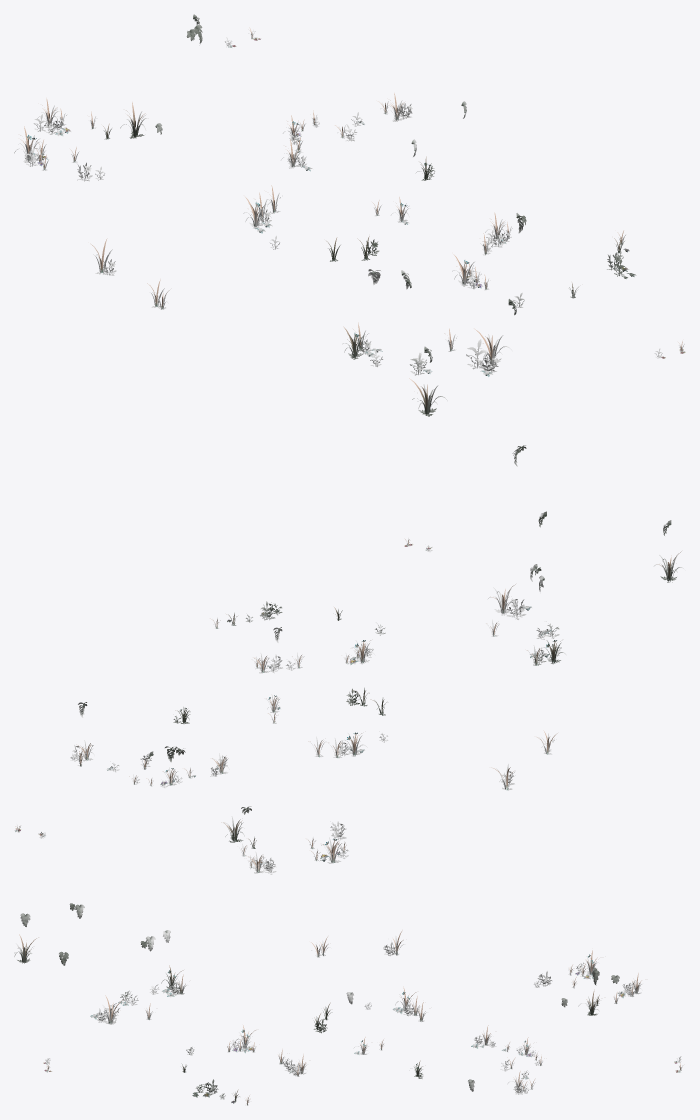
File: MSH_ENV_SquareArena_Plants.FBX
The picture shows the model from 3 angles, top to bottom: view 1: azimuth 30°, elevation 25°; view 2: azimuth 150°, elevation 25°; view 3: azimuth 270°, elevation 25°; orthographic projection. The views are drawn at different scales.
Parts seen in each view (by area): view 1: ENV_SquareArena_Plants; view 2: ENV_SquareArena_Plants; view 3: ENV_SquareArena_Plants.
Boxes of the visible parts, x1=… form: ENV_SquareArena_Plants: x1=14, y1=14, x2=685, y2=416; ENV_SquareArena_Plants: x1=14, y1=445, x2=683, y2=874; ENV_SquareArena_Plants: x1=14, y1=903, x2=682, y2=1105.
Bounding box in the file's own units: 33.36 × 12.39 × 60.51.
